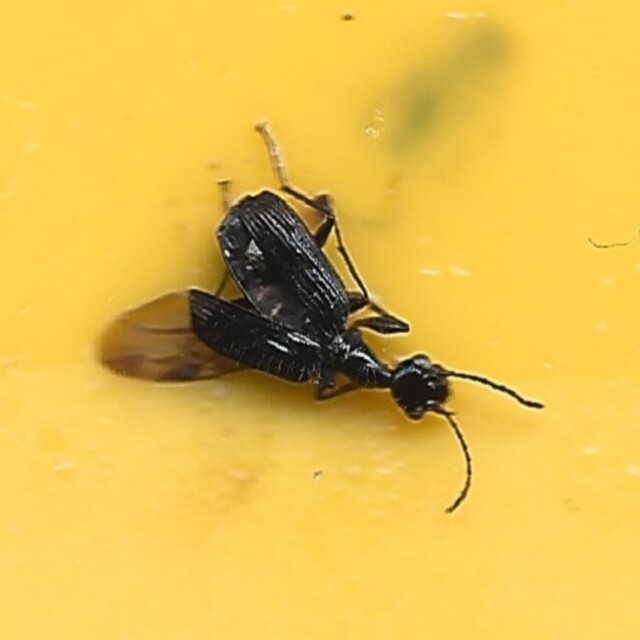Coleoptera: (95, 121, 545, 519)
